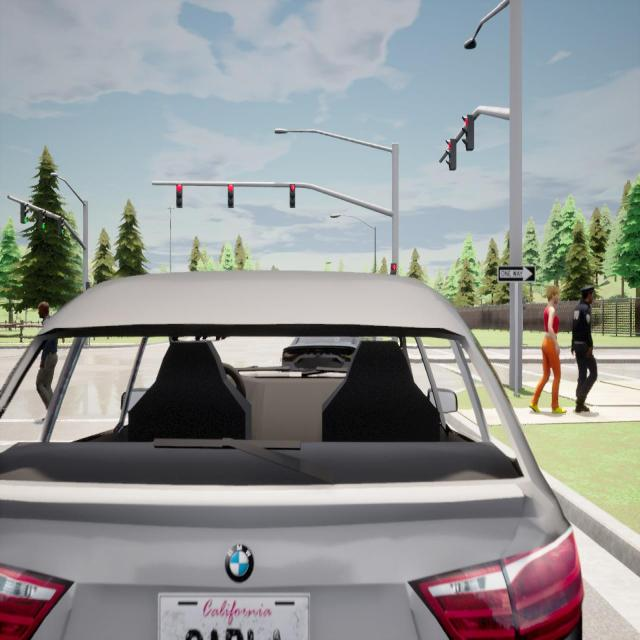Pedestrian: (530, 286, 566, 414), (570, 285, 598, 413), (36, 299, 57, 419)
Traffic_Signs: (498, 266, 535, 282)
Vehicle: (0, 271, 582, 638), (280, 335, 352, 377)
traffic_light: (462, 115, 474, 151), (446, 138, 456, 170), (38, 210, 46, 229), (21, 203, 28, 224), (58, 217, 65, 236), (290, 184, 295, 208), (228, 186, 233, 208), (177, 185, 182, 207), (391, 264, 396, 276)
